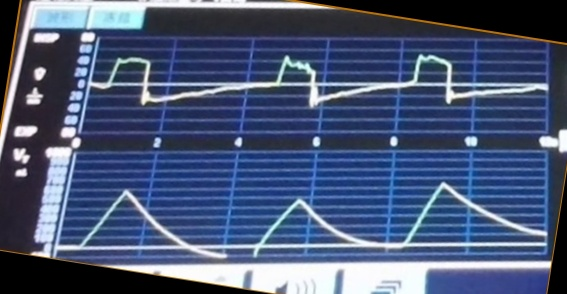Accumulation Flow: (98, 42, 544, 131)
Volume: (73, 154, 538, 260)
